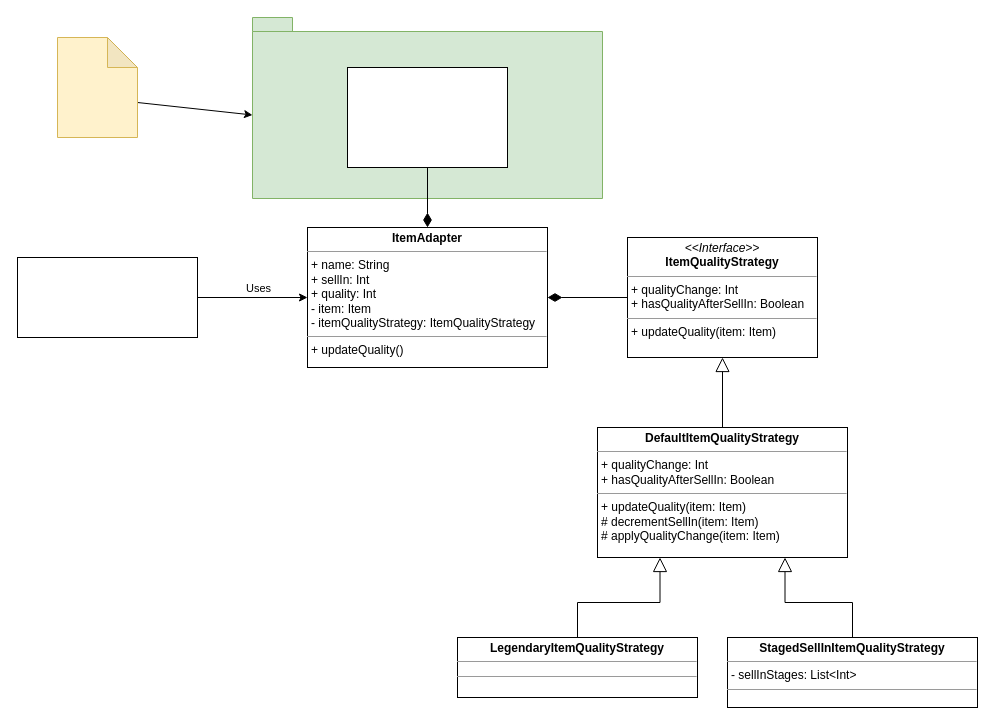
The diagram is 995 pixels wide and 725 high, and some of its shapes have lost their labels. Here are the shapes that lost their labels. From the top down, the centre of each, then its label:
the point at 97,87: Guarded by goblin
the point at 427,117: Item + name: String + sellIn: Int + quality: Int
the point at 107,297: GildedRose + items: Array<ItemAdapter> + updateQuality()
